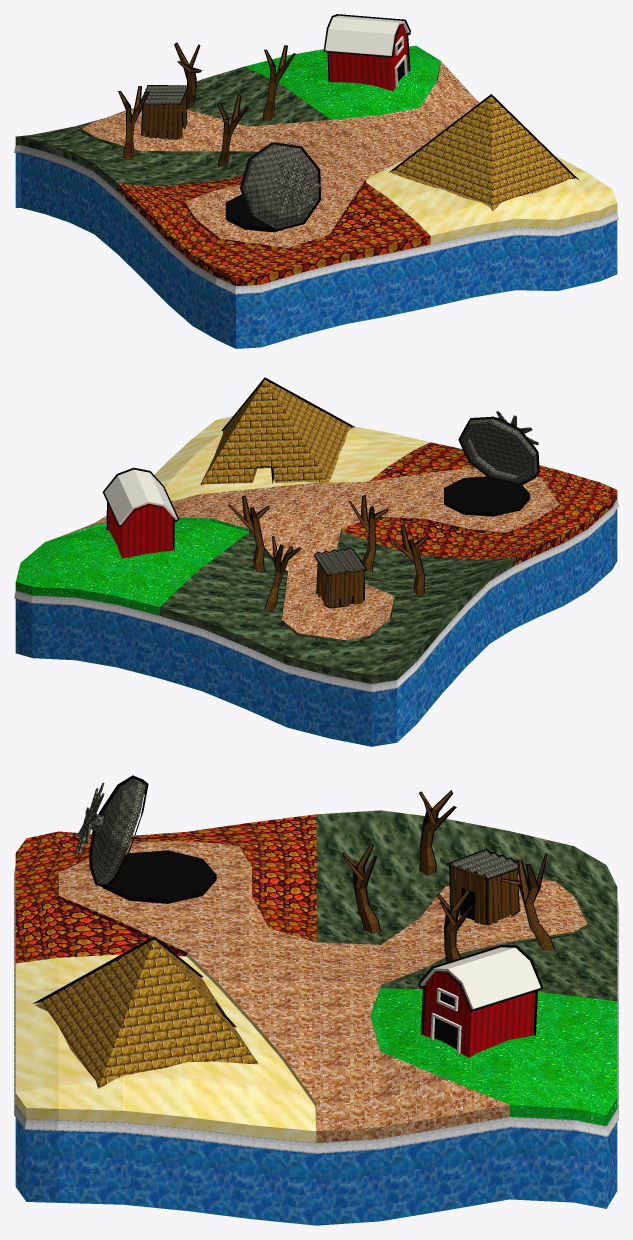
Rendered from spoopy.obj.
The picture shows the model from 3 angles, top to bottom: view 1: azimuth 30°, elevation 25°; view 2: azimuth 150°, elevation 25°; view 3: azimuth 270°, elevation 25°; orthographic projection. The views are drawn at different scales.
Visible parts, largest first — view 1: road_Plane.003, pyramide_Plane.002, vault_Circle.001, barnhouse_Cube.001, road.001_Plane.005, cabane_Plane.001, arbre_2_Cylinder.005, arbre_4_Cylinder.001, arbre_3_Cylinder.003, arbre_Cylinder.006, ombre_pyra_Plane.004; view 2: road_Plane.003, pyramide_Plane.002, vault_Circle.001, road.001_Plane.005, barnhouse_Cube.001, cabane_Plane.001, arbre_2_Cylinder.005, arbre_3_Cylinder.003, arbre_4_Cylinder.001, arbre_Cylinder.006; view 3: road_Plane.003, pyramide_Plane.002, barnhouse_Cube.001, vault_Circle.001, road.001_Plane.005, cabane_Plane.001, arbre_Cylinder.006, arbre_3_Cylinder.003, arbre_4_Cylinder.001, arbre_2_Cylinder.005, ombre_pyra_Plane.004.
Part boxes in pixels (bbox=[...]): road_Plane.003: bbox=[15, 46, 617, 348]; pyramide_Plane.002: bbox=[391, 96, 575, 210]; vault_Circle.001: bbox=[225, 142, 321, 232]; barnhouse_Cube.001: bbox=[323, 14, 410, 91]; road.001_Plane.005: bbox=[14, 145, 618, 294]; cabane_Plane.001: bbox=[141, 85, 188, 139]; arbre_2_Cylinder.005: bbox=[262, 45, 295, 120]; arbre_4_Cylinder.001: bbox=[118, 86, 149, 160]; arbre_3_Cylinder.003: bbox=[217, 95, 248, 166]; arbre_Cylinder.006: bbox=[174, 42, 202, 108]; ombre_pyra_Plane.004: bbox=[388, 94, 579, 180]; road_Plane.003: bbox=[15, 416, 617, 746]; pyramide_Plane.002: bbox=[200, 380, 353, 485]; vault_Circle.001: bbox=[444, 411, 539, 516]; road.001_Plane.005: bbox=[14, 499, 618, 692]; barnhouse_Cube.001: bbox=[102, 467, 179, 558]; cabane_Plane.001: bbox=[313, 547, 366, 608]; arbre_2_Cylinder.005: bbox=[228, 495, 269, 570]; arbre_3_Cylinder.003: bbox=[349, 495, 388, 572]; arbre_4_Cylinder.001: bbox=[387, 524, 428, 595]; arbre_Cylinder.006: bbox=[264, 535, 301, 610]; road_Plane.003: bbox=[15, 810, 617, 1225]; pyramide_Plane.002: bbox=[35, 939, 258, 1088]; barnhouse_Cube.001: bbox=[418, 945, 543, 1057]; vault_Circle.001: bbox=[74, 775, 216, 903]; road.001_Plane.005: bbox=[14, 866, 618, 1153]; cabane_Plane.001: bbox=[446, 849, 519, 925]; arbre_Cylinder.006: bbox=[500, 853, 554, 950]; arbre_3_Cylinder.003: bbox=[342, 843, 380, 933]; arbre_4_Cylinder.001: bbox=[419, 790, 456, 875]; arbre_2_Cylinder.005: bbox=[436, 889, 473, 961]; ombre_pyra_Plane.004: bbox=[33, 936, 236, 1027].
Bounding box in the file's own units: 468 × 212 × 467.
